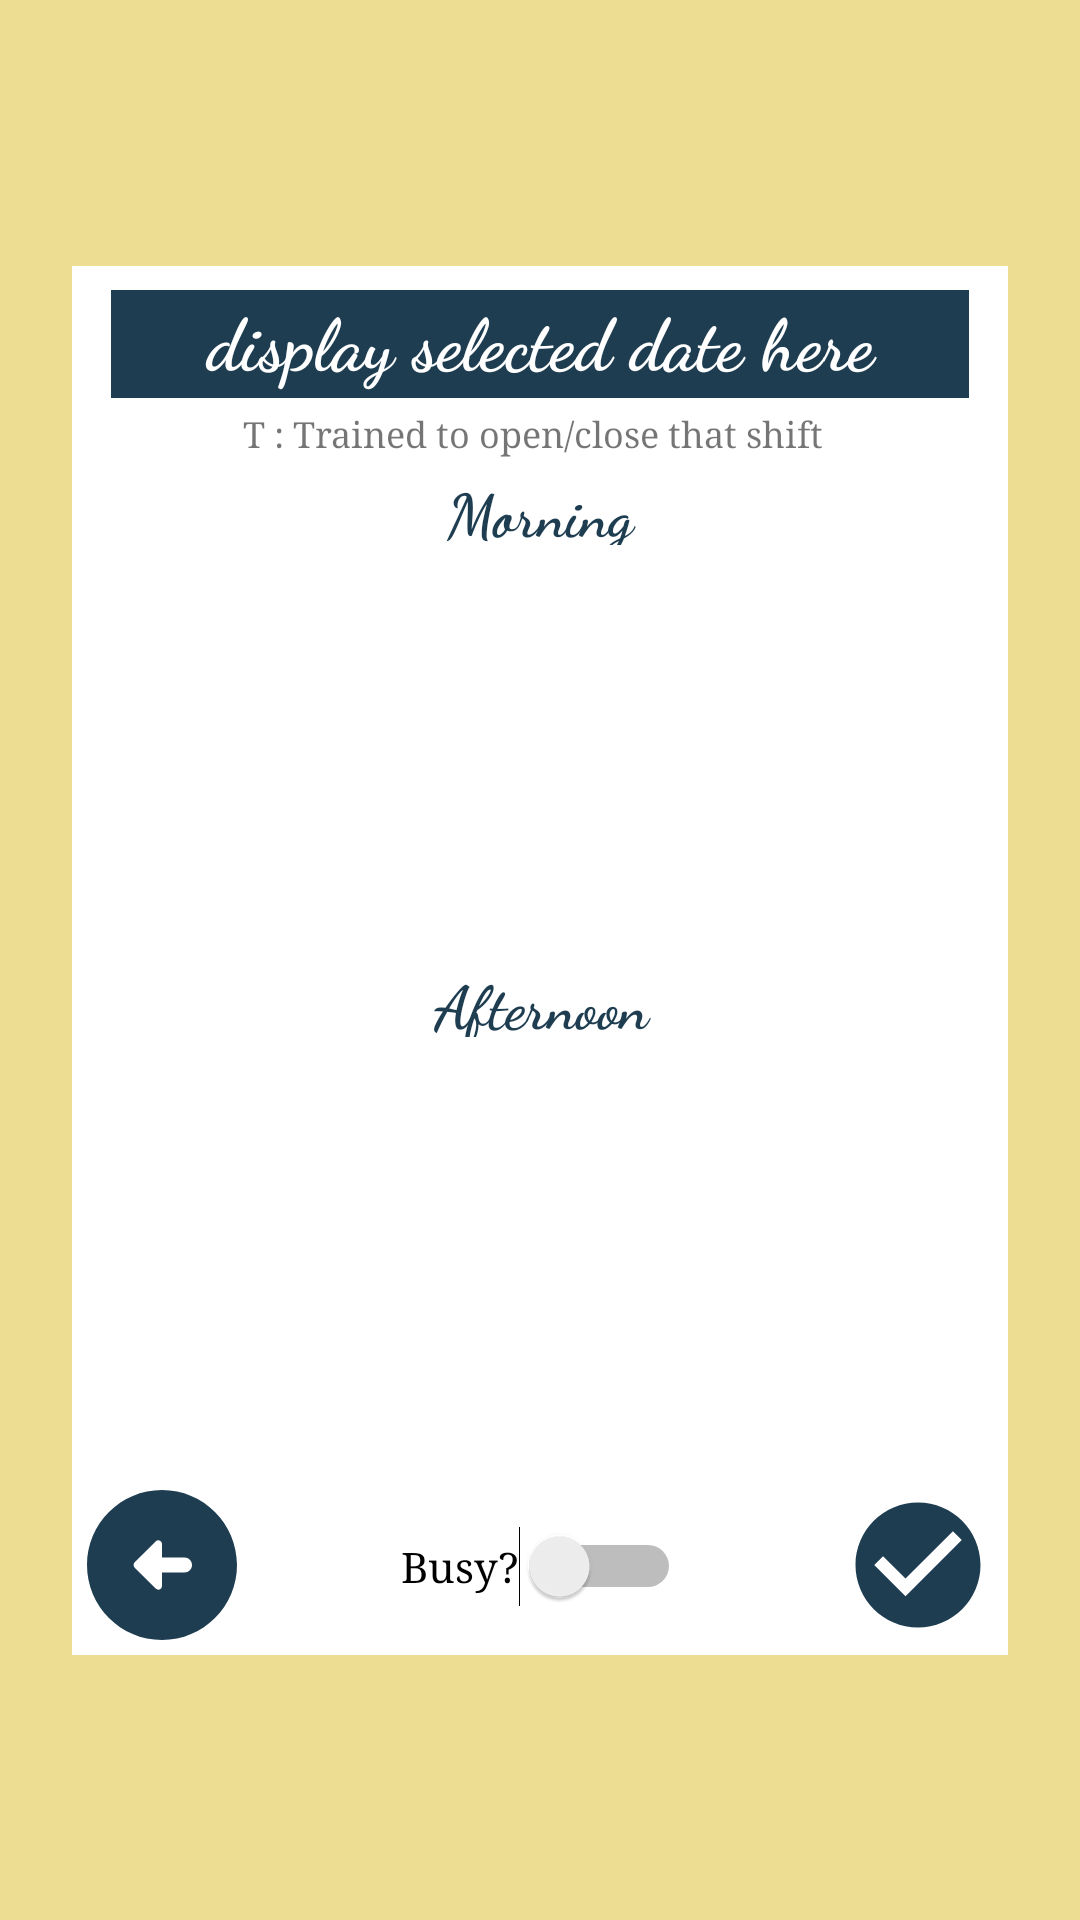

Icon click points for this 1080w x 1920h phone screenshot, format (x=x, y=y):
arrow circle left: (x=162, y=1565)
check circle: (x=918, y=1565)
